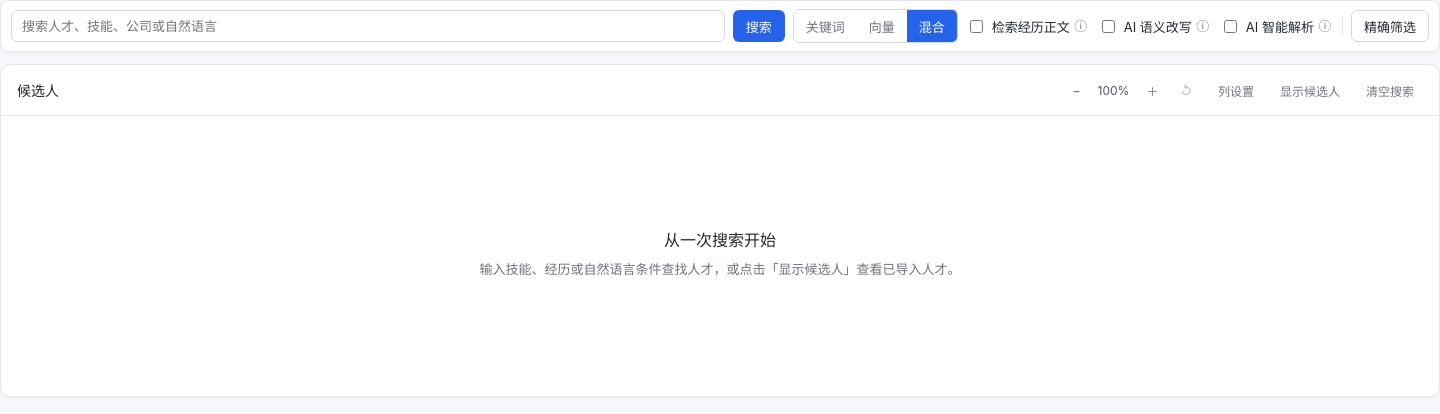
explanation text only appears while hovering the info icon
Expected: the text "拆出硬条件 + 词条 + 语义查询" is not shown
Hover over the button with class "info-tip" next to "AI 智能解析" at (1325, 26), box [1316,17,1334,35]
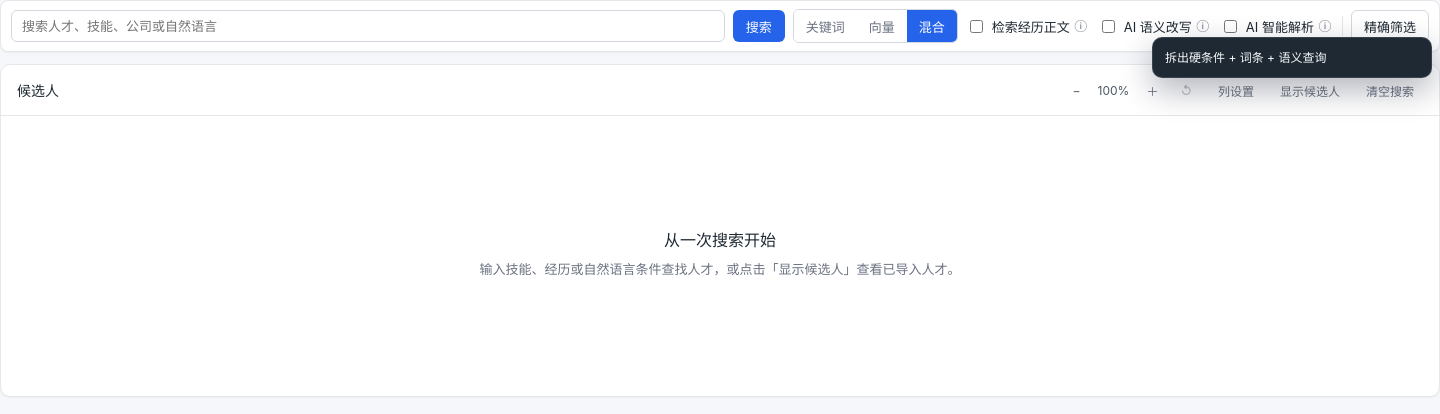
Expected: the tooltip reads "拆出硬条件 + 词条 + 语义查询", [1165,50,1326,65]
Move the pointer off the button with class "info-tip" showing "ⓘ 拆出硬条件 + 词条 + 语义查询", box [1316,17,1334,35]
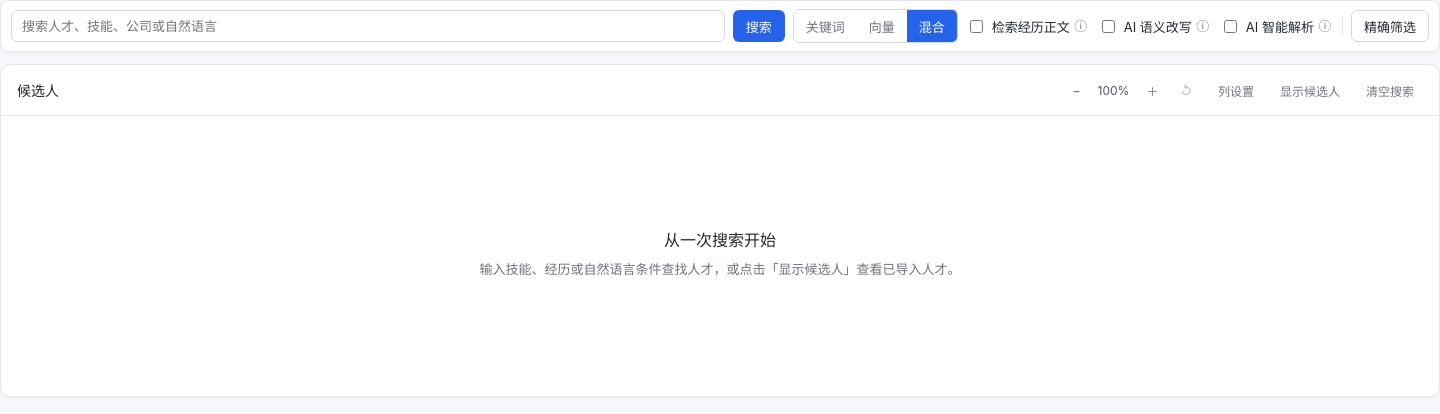
Expected: the tooltip "拆出硬条件 + 词条 + 语义查询" is gone
